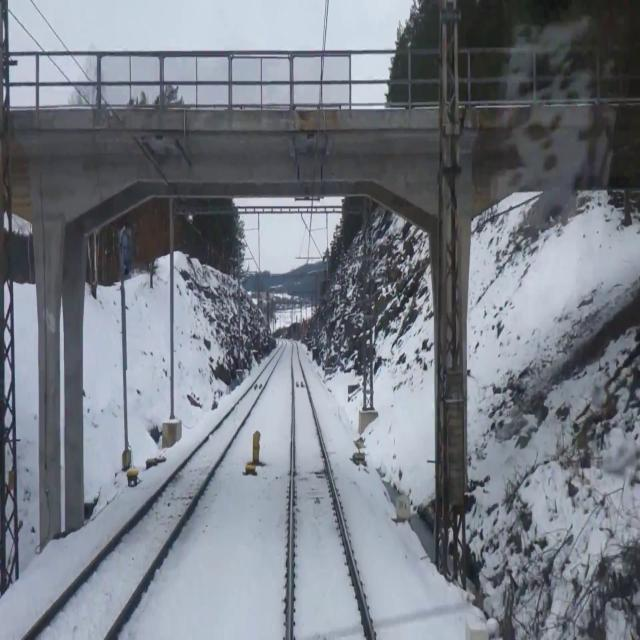rail-track: (27, 386, 259, 639), (292, 344, 370, 639), (256, 349, 281, 384)
